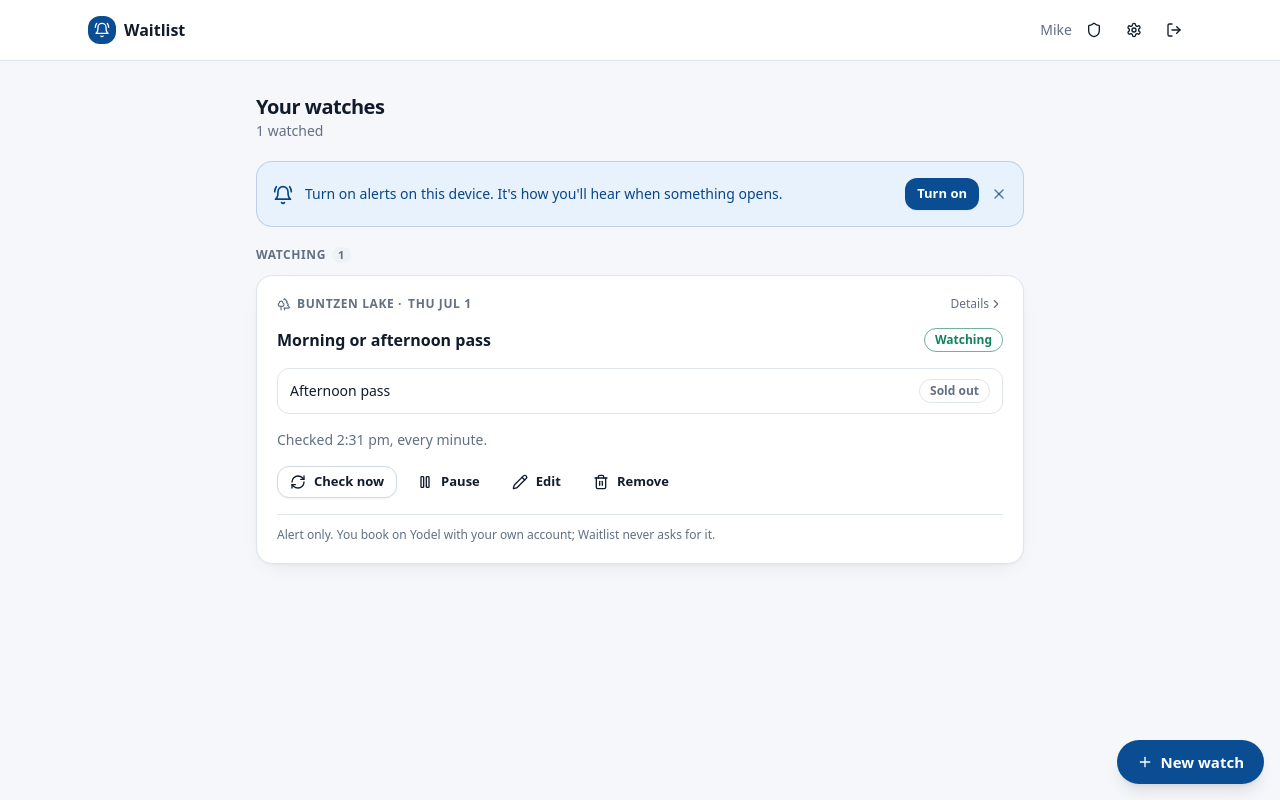
Test: the dashboard › unfolds Paused when a watch is paused, so it doesn't vanish
Click the button "Pause".
click(448, 482)  # box x1=405 y1=466 x2=492 y2=498
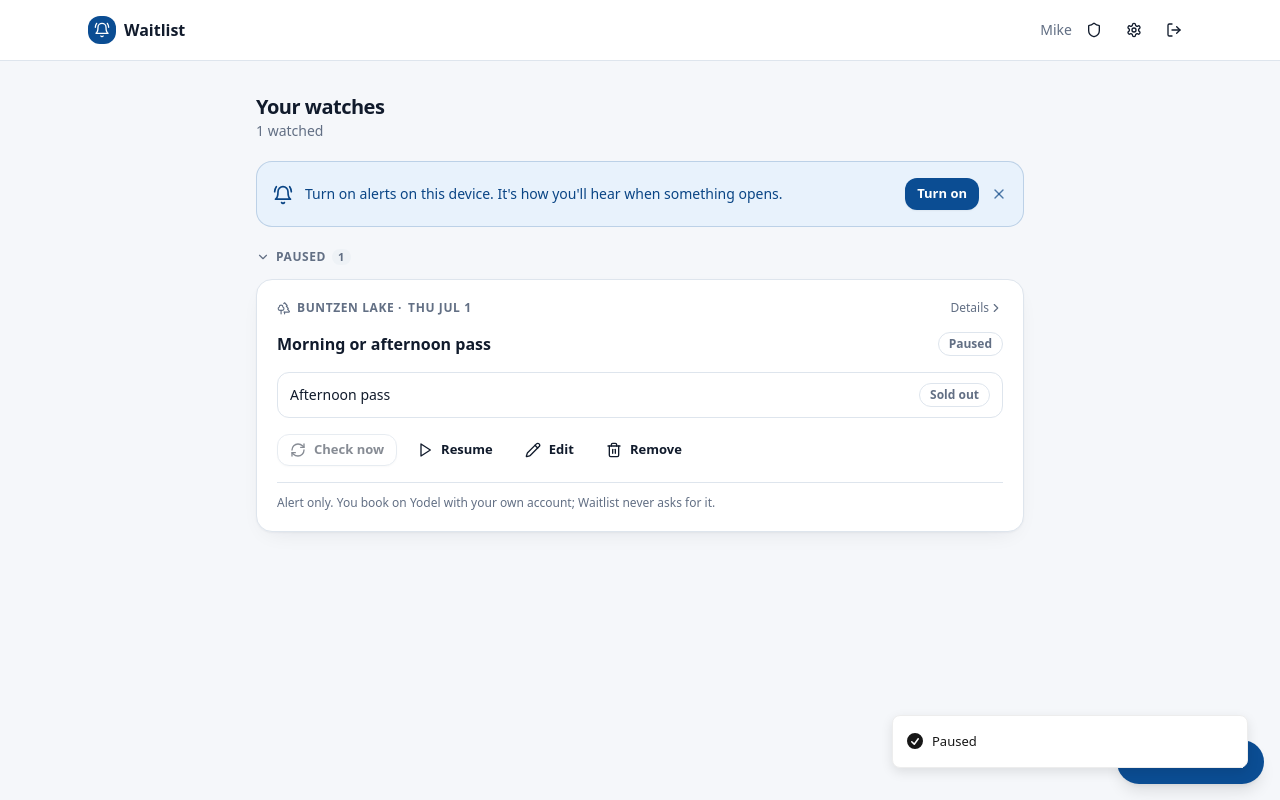
Check: the button "Resume" is shown, box x1=405 y1=434 x2=505 y2=466
